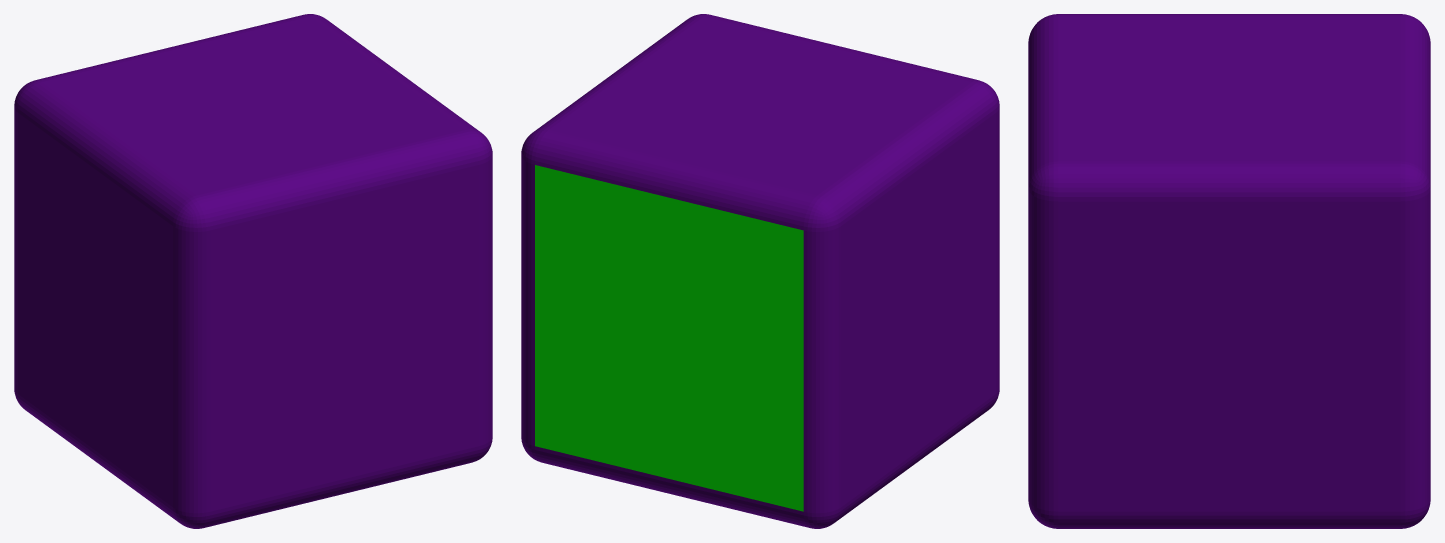
The picture shows the model from 3 angles, left to right: view 1: azimuth 30°, elevation 25°; view 2: azimuth 150°, elevation 25°; view 3: azimuth 270°, elevation 25°; orthographic projection. The views are drawn at different scales.
Visible parts, largest first — view 1: Cube.015; view 2: Cube.015; view 3: Cube.015.
Boxes of the visible parts, x1,y1,x2,y2 form: Cube.015: [14, 14, 492, 528]; Cube.015: [521, 14, 999, 528]; Cube.015: [1028, 14, 1430, 528].
Size of the model in its own units: 200 by 200 by 200.
